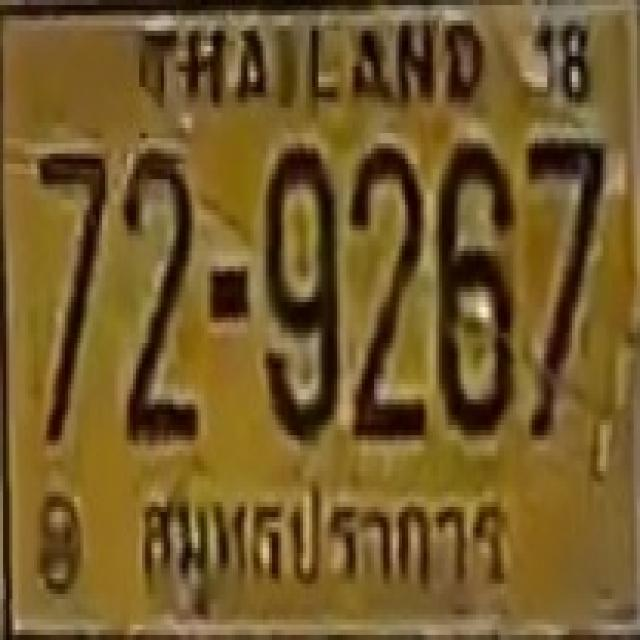2: (348, 141, 422, 438), (122, 146, 193, 438)
6: (436, 138, 510, 430)
7: (526, 130, 603, 432), (37, 146, 105, 438)
9: (263, 140, 337, 432)
SPK: (124, 468, 520, 610)
